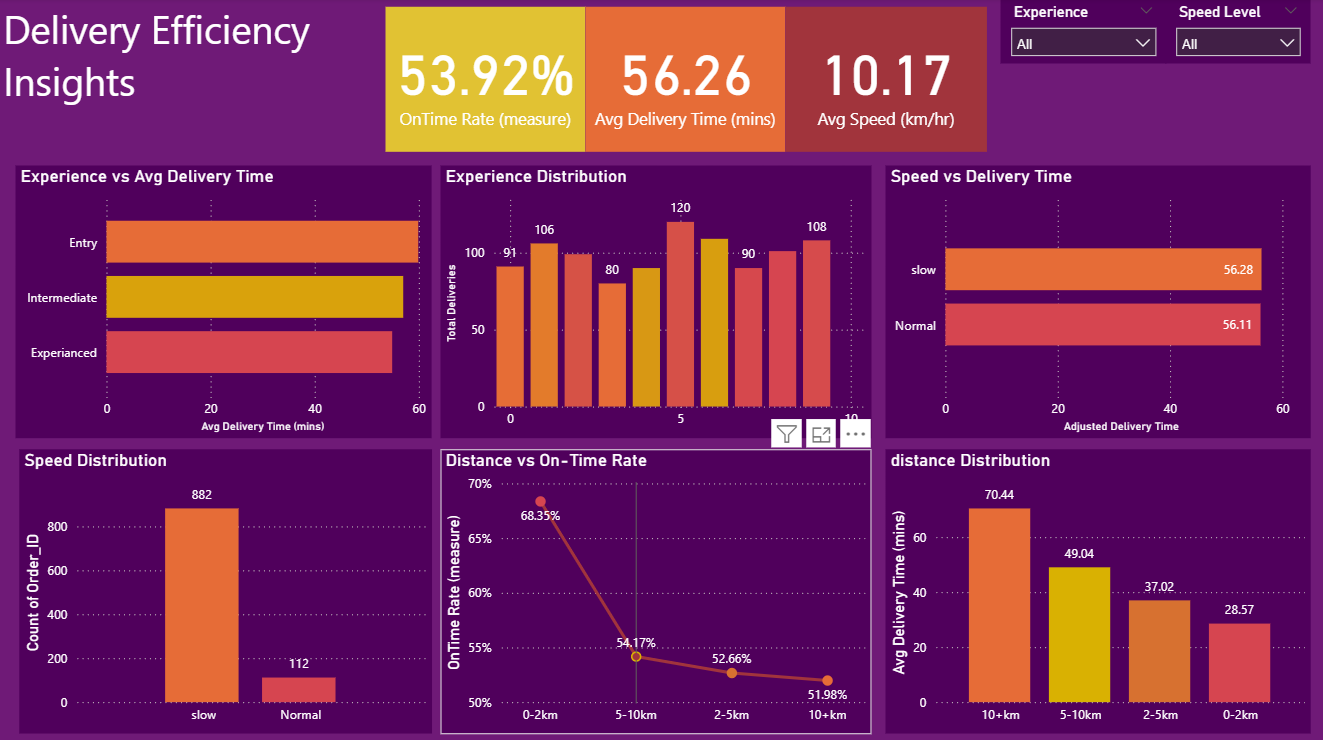

The page's visual inventory and layout, read from the dashboard file:
{"tool":"powerbi","page":{"name":"Delivery efficiency Insights","canvas":[1280,720],"ordinal":2},"visuals":[{"type":"barChart","title":"Experience vs Avg Delivery Time","fields":{"Category":["zepto_delivery.Experience Bucket"],"Y":["zepto_delivery.Avg Delivery Time (mins)"]},"box":[17.1,161.4,401.4,262.9],"z":0},{"type":"clusteredColumnChart","title":"Experience Distribution","fields":{"Category":["zepto_delivery.courier experience yrs"],"Y":["zepto_delivery.Total Deliveries"]},"box":[427.1,161.4,415.7,262.9],"z":1000},{"type":"barChart","title":"Speed vs Delivery Time","fields":{"Category":["zepto_delivery.Speed Bucket"],"Y":["Actual VS Predicted.Adjusted Delivery Time"]},"box":[857.1,161.4,410,262.9],"z":2000},{"type":"slicer","title":"Experience vs Avg Delivery Time","fields":{"Values":["zepto_delivery.Distance bucket"]},"box":[1127.1,0,140,62.9],"z":3000},{"type":"lineChart","title":"Distance vs On-Time Rate","fields":{"Y":["zepto_delivery.OnTime Rate (measure)"],"Category":["zepto_delivery.Distance bucket"]},"box":[427.1,435.7,415.7,274.3],"z":4000},{"type":"columnChart","title":"Speed Distribution","fields":{"Y":["CountNonNull(zepto_delivery.Order_ID)"],"Category":["zepto_delivery.Speed Bucket"]},"box":[20,435.7,398.6,274.3],"z":5000},{"type":"columnChart","title":"distance Distribution","fields":{"Category":["zepto_delivery.Distance bucket"],"Y":["zepto_delivery.Avg Delivery Time (mins)"]},"box":[857.1,435.7,410,274.3],"z":6000},{"type":"card","fields":{"Values":["zepto_delivery.OnTime Rate (measure)"]},"box":[374.3,8.6,192.9,140],"z":7000},{"type":"card","fields":{"Values":["zepto_delivery.Avg Delivery Time (mins)"]},"box":[567.1,8.6,192.9,140],"z":8000},{"type":"card","fields":{"Values":["Traffic Impact %.Avg Speed (km/hr)"]},"box":[760,8.6,194.3,140],"z":9000},{"type":"slicer","title":"Experience vs Avg Delivery Time","fields":{"Values":["zepto_delivery.Experience Bucket"]},"box":[967.1,0,160,62.9],"z":10000},{"type":"textbox","box":[0,0,345.7,117.1],"z":11000}]}

Visuals, with their boxes in screenshot pixels (x1, y1, x2, y2), scaled from the page's 1280x720 canvas onto the 1323x740 screenshot:
"Experience vs Avg Delivery Time" barChart: detection(18, 166, 433, 436)
"Experience Distribution" clusteredColumnChart: detection(441, 166, 871, 436)
"Speed vs Delivery Time" barChart: detection(886, 166, 1310, 436)
"Experience vs Avg Delivery Time" slicer: detection(1165, 0, 1310, 65)
"Distance vs On-Time Rate" lineChart: detection(441, 448, 871, 730)
"Speed Distribution" columnChart: detection(21, 448, 433, 730)
"distance Distribution" columnChart: detection(886, 448, 1310, 730)
card - zepto_delivery.OnTime Rate (measure): detection(387, 9, 586, 153)
card - zepto_delivery.Avg Delivery Time (mins): detection(586, 9, 786, 153)
card - Traffic Impact %.Avg Speed (km/hr): detection(786, 9, 986, 153)
"Experience vs Avg Delivery Time" slicer: detection(1000, 0, 1165, 65)
textbox: detection(0, 0, 357, 120)
